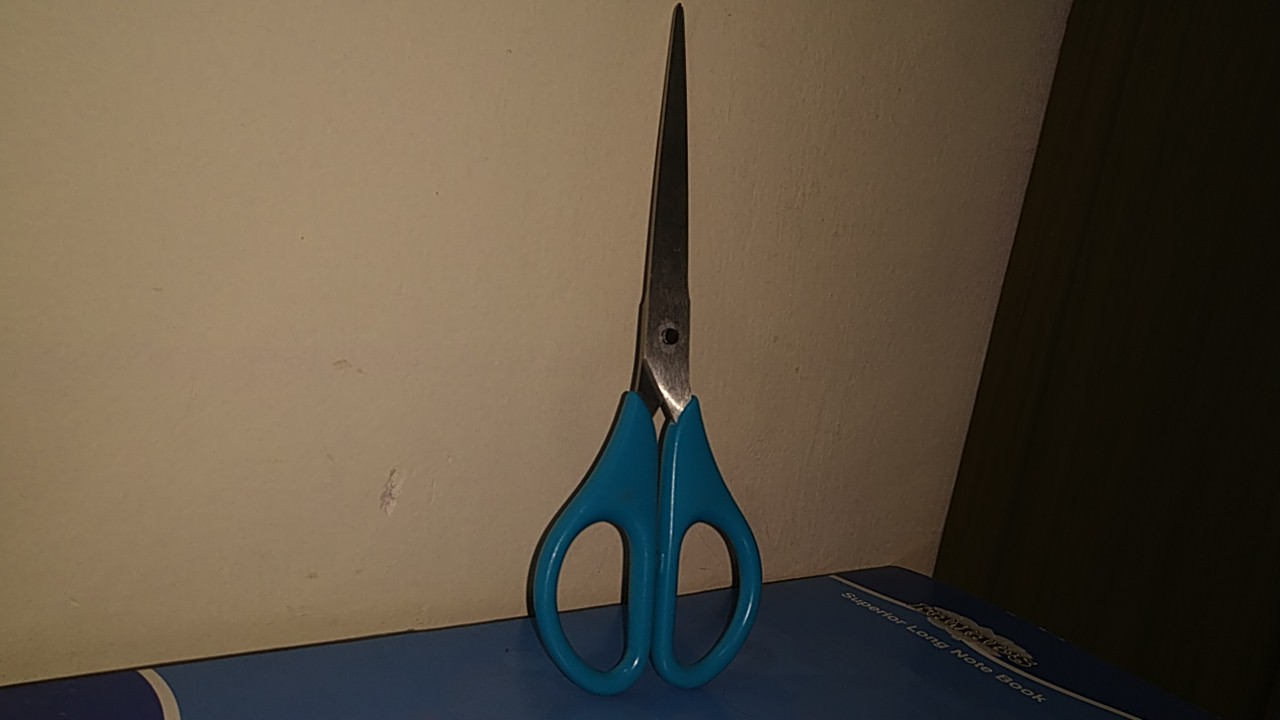scissor: (487, 2, 816, 710)
